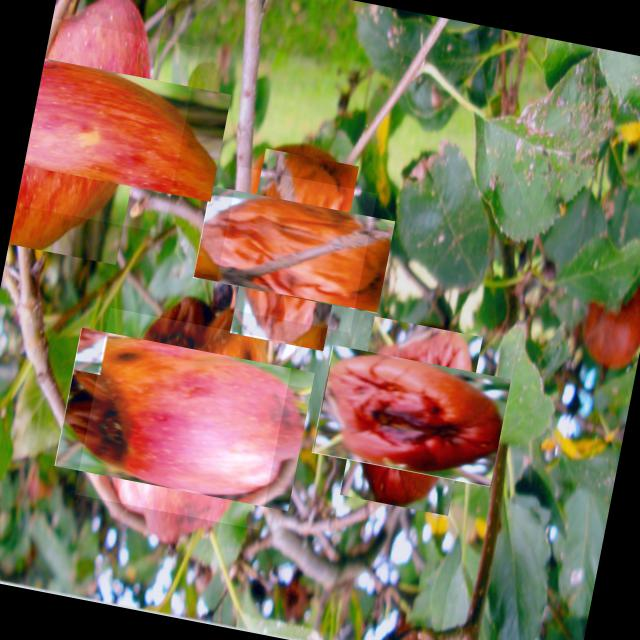Fresh Apple: (16, 18, 201, 234)
Rotten Apple: (74, 306, 297, 530), (326, 330, 498, 502), (212, 166, 378, 333)
